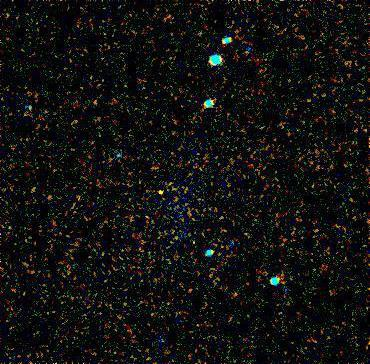star: (146, 178, 176, 208)
